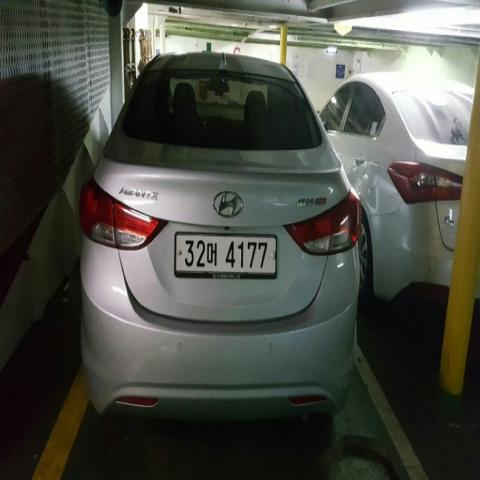LP: (170, 227, 282, 284)
